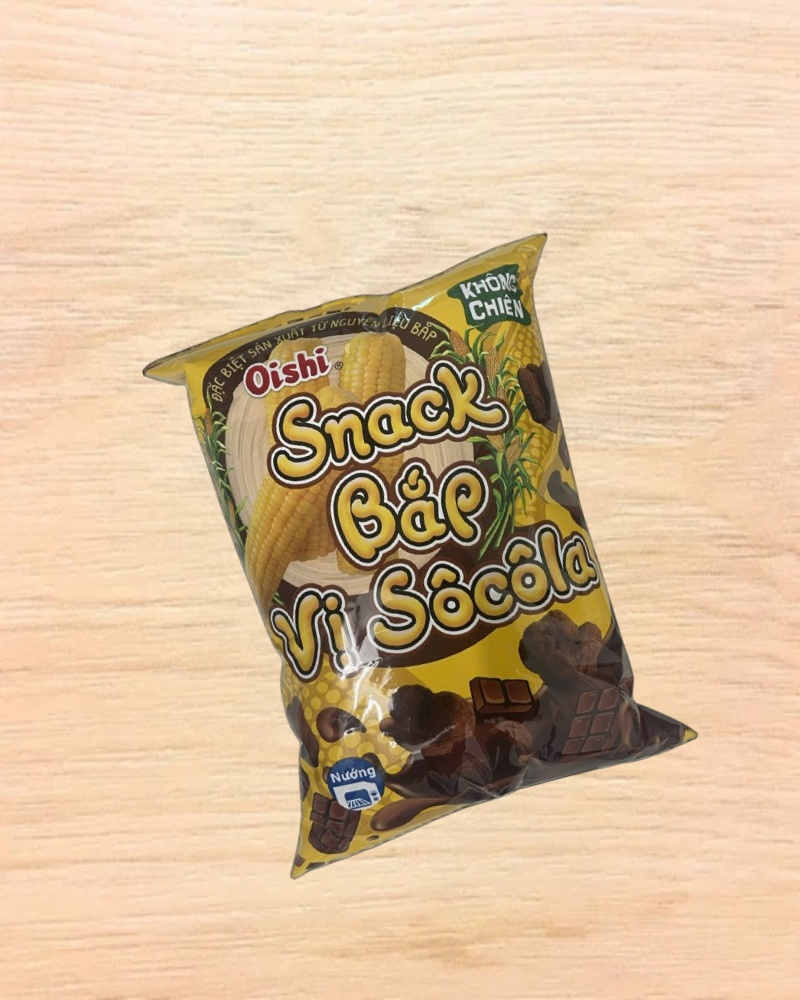Snack socola: (138, 231, 705, 871)
